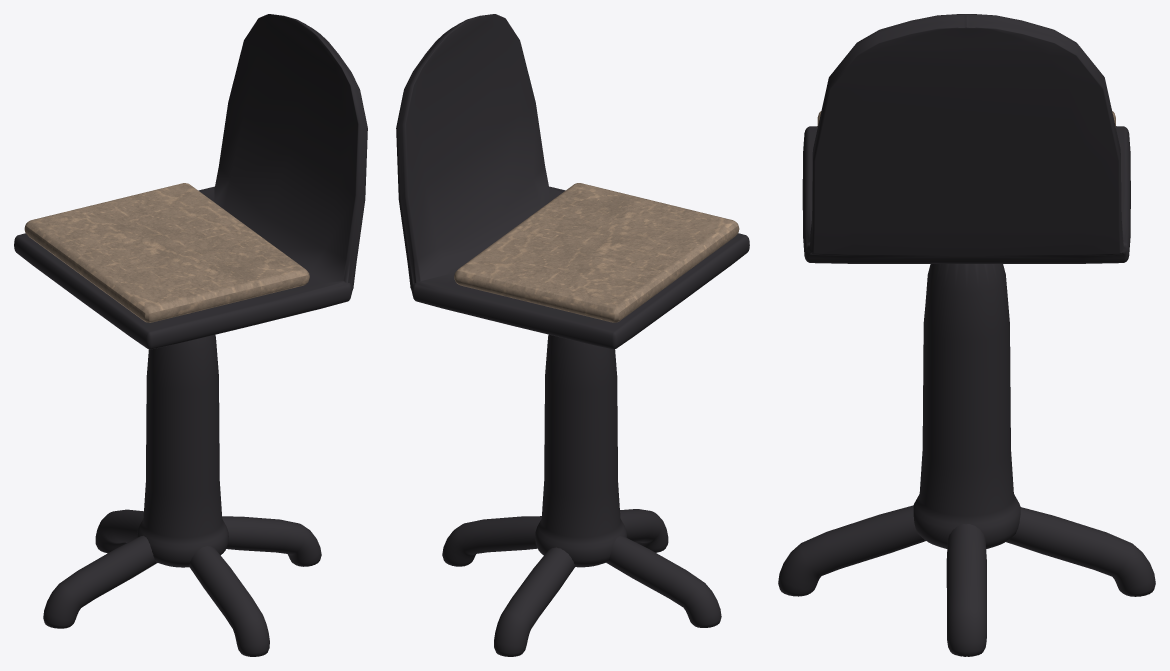
File: Chair.fbx
3 views of the same model, side by side, from view 1: azimuth 30°, elevation 25°; view 2: azimuth 150°, elevation 25°; view 3: azimuth 270°, elevation 25° (orthographic). The views are drawn at different scales.
Parts seen in each view (by area): view 1: Chair; view 2: Chair; view 3: Chair.
Boxes of the visible parts, x1,y1,x2,y2 form: Chair: [14, 14, 367, 656]; Chair: [396, 14, 749, 656]; Chair: [778, 14, 1155, 656].
Bounding box in the file's own units: 77.21 × 146 × 77.09.
